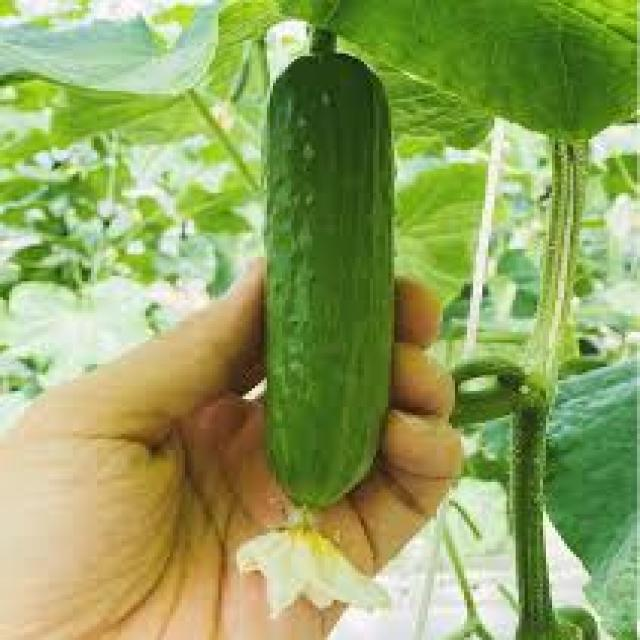Cucumber: (258, 32, 391, 506)
